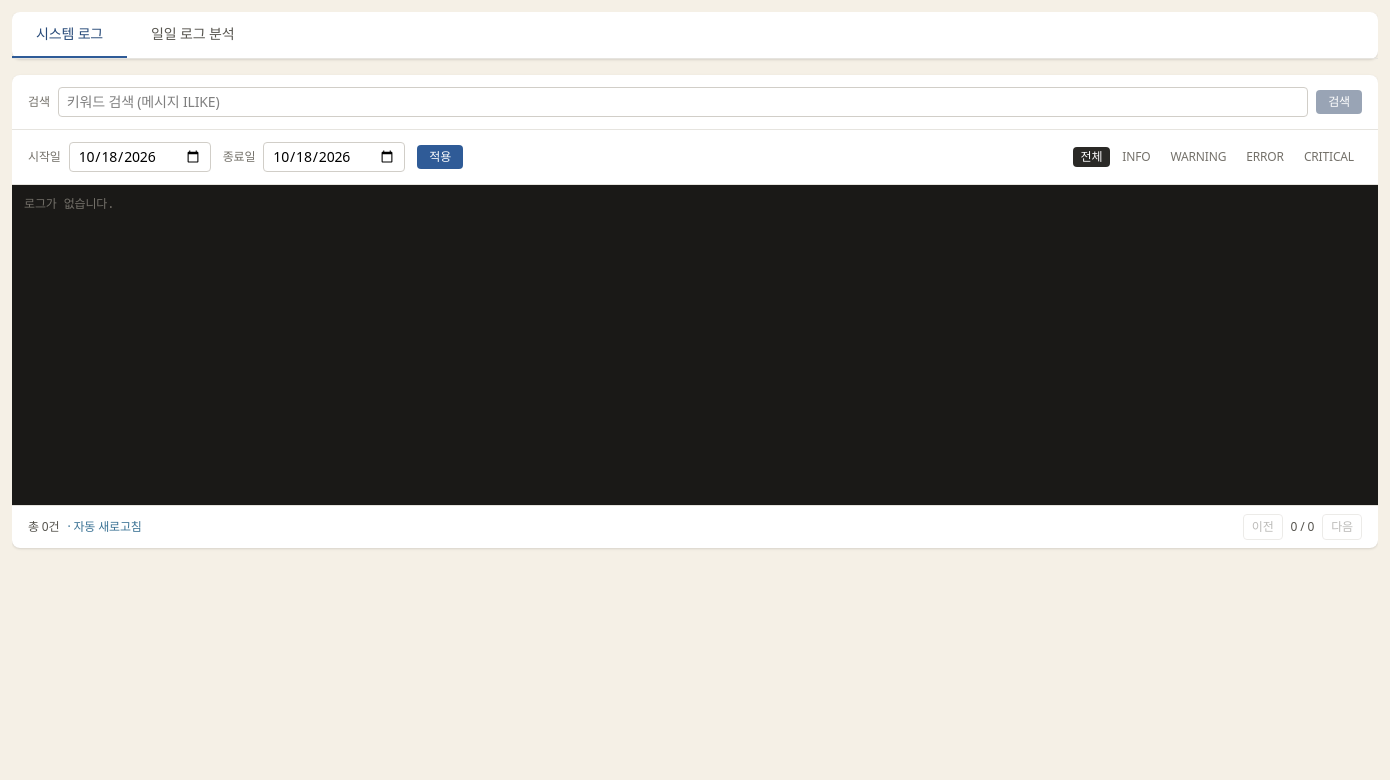
Scenario: Logs — 탭 컨테이너 › 시스템 로그 탭 → 일일 로그 분석 탭 클릭 시 활성 전환
Click the tab with test id "logs-tab-daily-report" at (193, 35), box [127, 12, 258, 58]
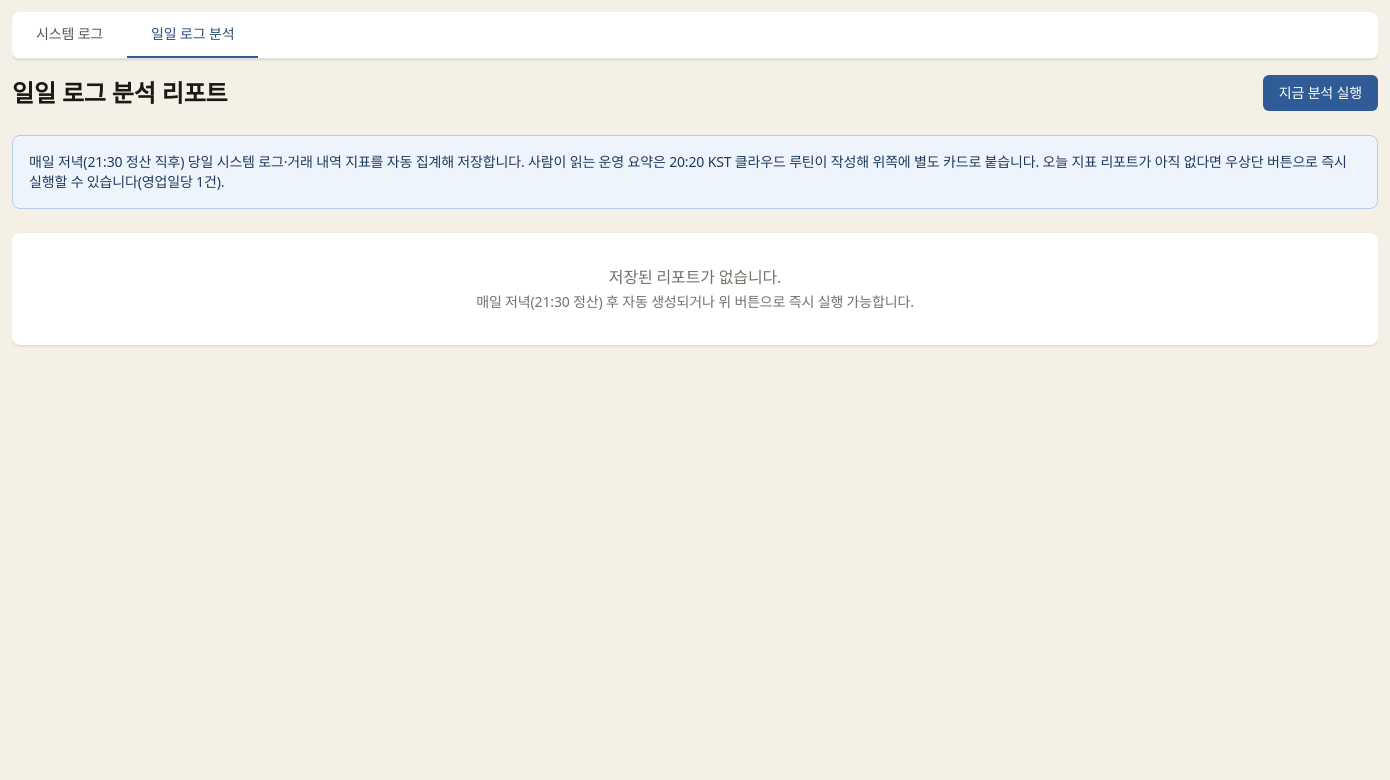
Expected: the element with test id "system-logs-body" is gone
